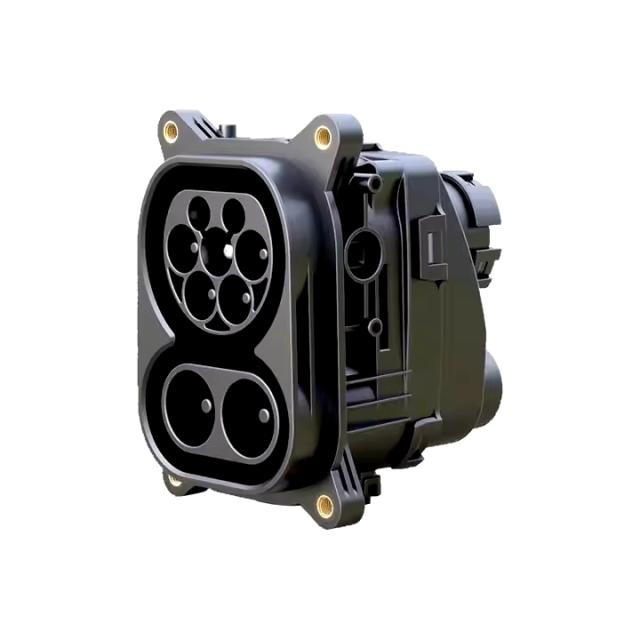inlet: (163, 190, 273, 336)
inlet-above-left: (187, 196, 211, 231)
inlet-above-right: (221, 198, 246, 235)
inlet-below-left: (184, 270, 217, 321)
inlet-below-right: (218, 275, 251, 325)
inlet-circle: (200, 226, 233, 277)
inlet-circle-left: (167, 224, 198, 273)
inlet-circle-right: (235, 230, 268, 281)
inlet-minus: (222, 378, 275, 458)
inlet-plus: (165, 370, 216, 447)
